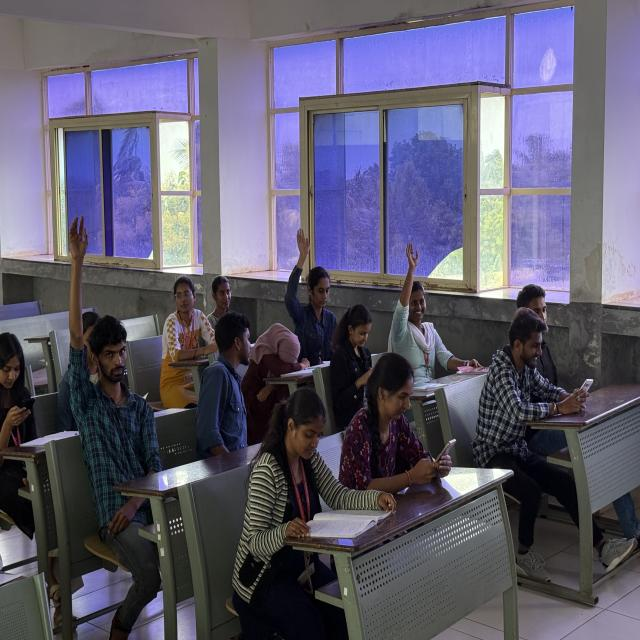Hand Rising: (52, 208, 163, 472), (279, 220, 350, 356), (388, 234, 451, 362)
Reading: (235, 381, 388, 574)
Sleeping: (244, 316, 310, 418)
Using Phone: (332, 344, 473, 502), (485, 301, 604, 445), (0, 320, 59, 529)
